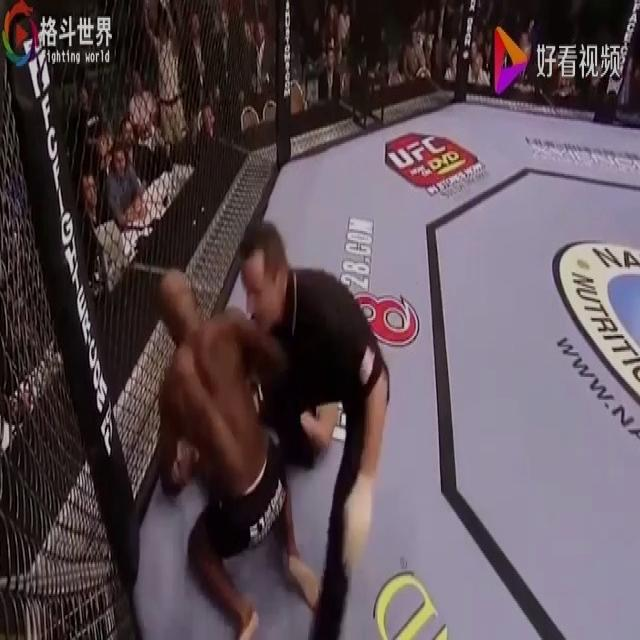fight: (105, 217, 393, 638)
